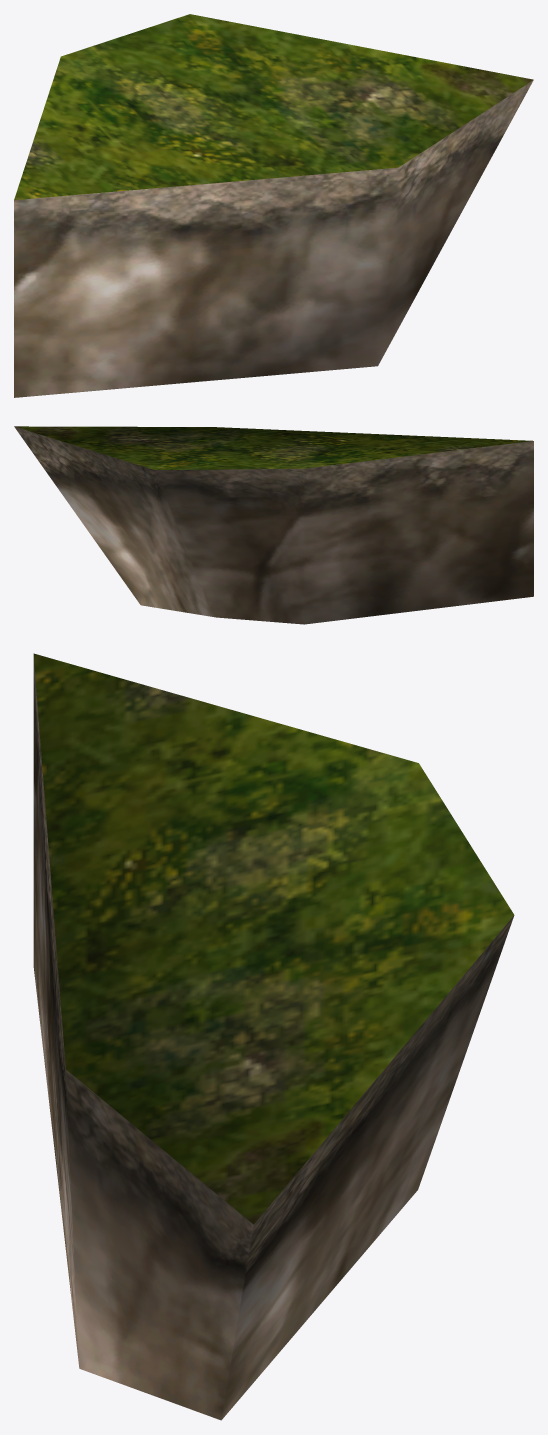
File: ANIMATEDINSTANCES_OH_ROCKFALL_202__AI.fbx
The picture shows the model from 3 angles, top to bottom: view 1: azimuth 30°, elevation 25°; view 2: azimuth 150°, elevation 25°; view 3: azimuth 270°, elevation 25°; orthographic projection. The views are drawn at different scales.
Visible parts, largest first — view 1: ANIMATEDINSTANCES_OH_ROCKFALL_202__AI; view 2: ANIMATEDINSTANCES_OH_ROCKFALL_202__AI; view 3: ANIMATEDINSTANCES_OH_ROCKFALL_202__AI.
Boxes of the visible parts, x1,y1,x2,y2 form: ANIMATEDINSTANCES_OH_ROCKFALL_202__AI: (14, 14, 533, 397); ANIMATEDINSTANCES_OH_ROCKFALL_202__AI: (14, 426, 533, 624); ANIMATEDINSTANCES_OH_ROCKFALL_202__AI: (33, 653, 514, 1420).
Size of the model in its own units: 16234 by 7499 by 7272.
Materials: 2 (2 with a texture image).
